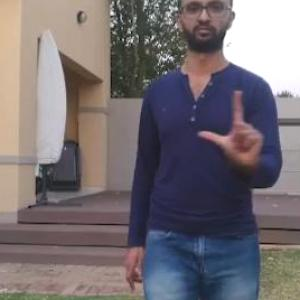land_hand: (196, 85, 273, 176)
